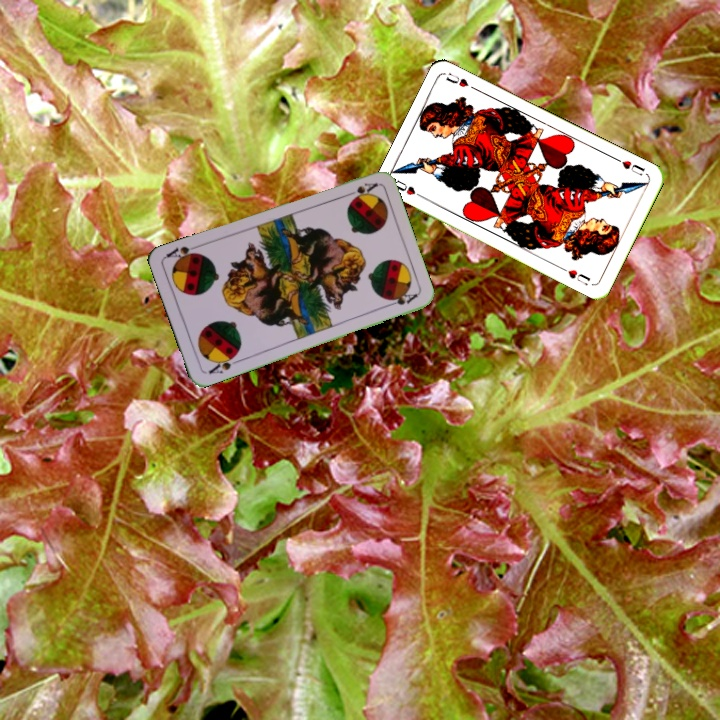HU: (390, 176, 427, 201), (612, 154, 648, 178)
SA: (205, 350, 242, 377), (340, 178, 380, 202)
